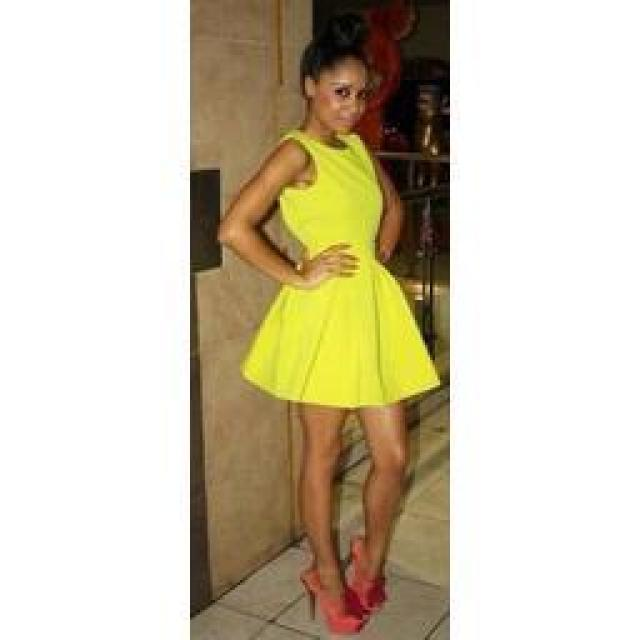dress: (241, 130, 441, 410)
